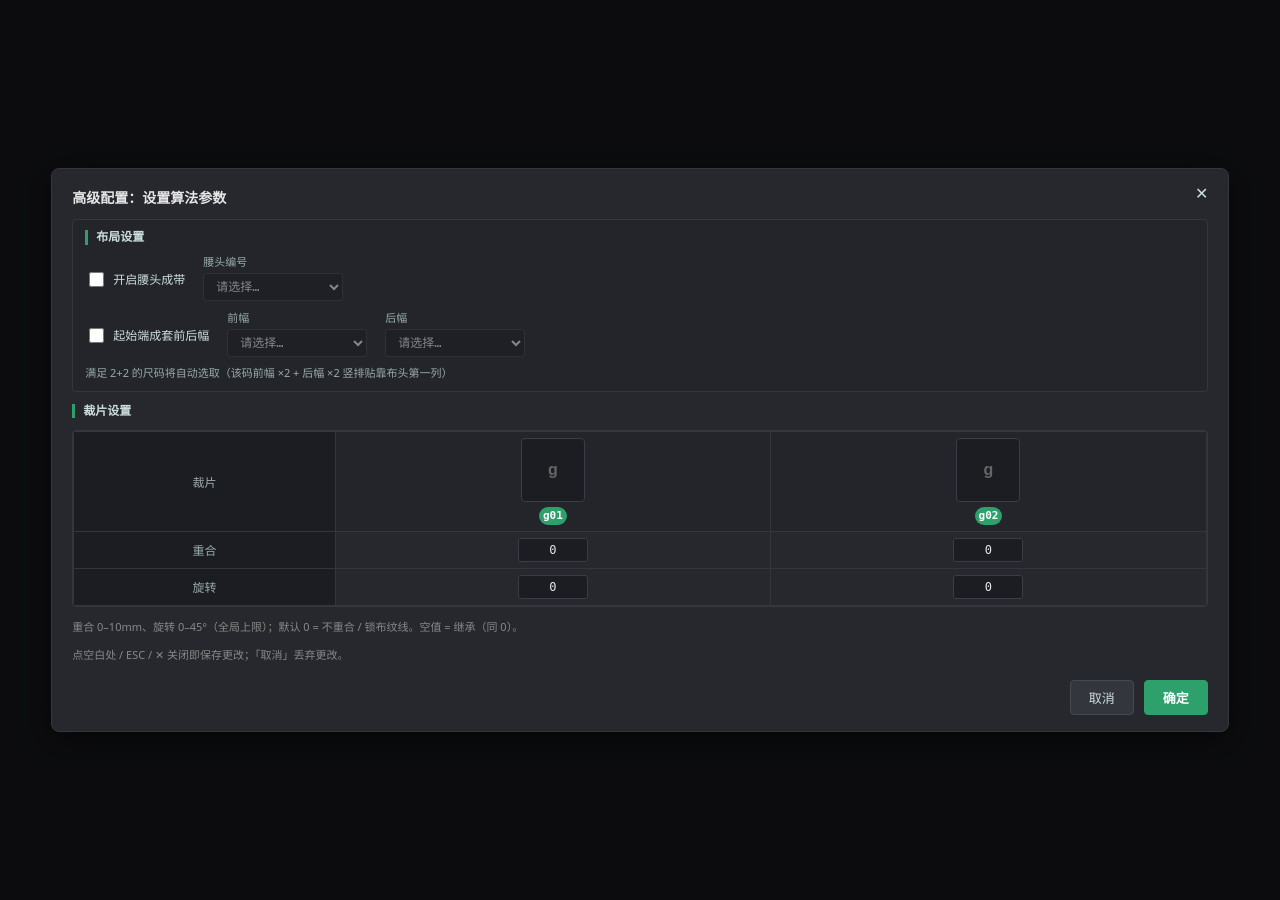
Test: PerTypeOverridesModal 布局设置分区 › 成带预览失败 → 可读错误文案（成带失败前置到选码时刻，无缩略可点）
Click the checkbox with test id "band-enabled": click(97, 279) [89,272,104,286]
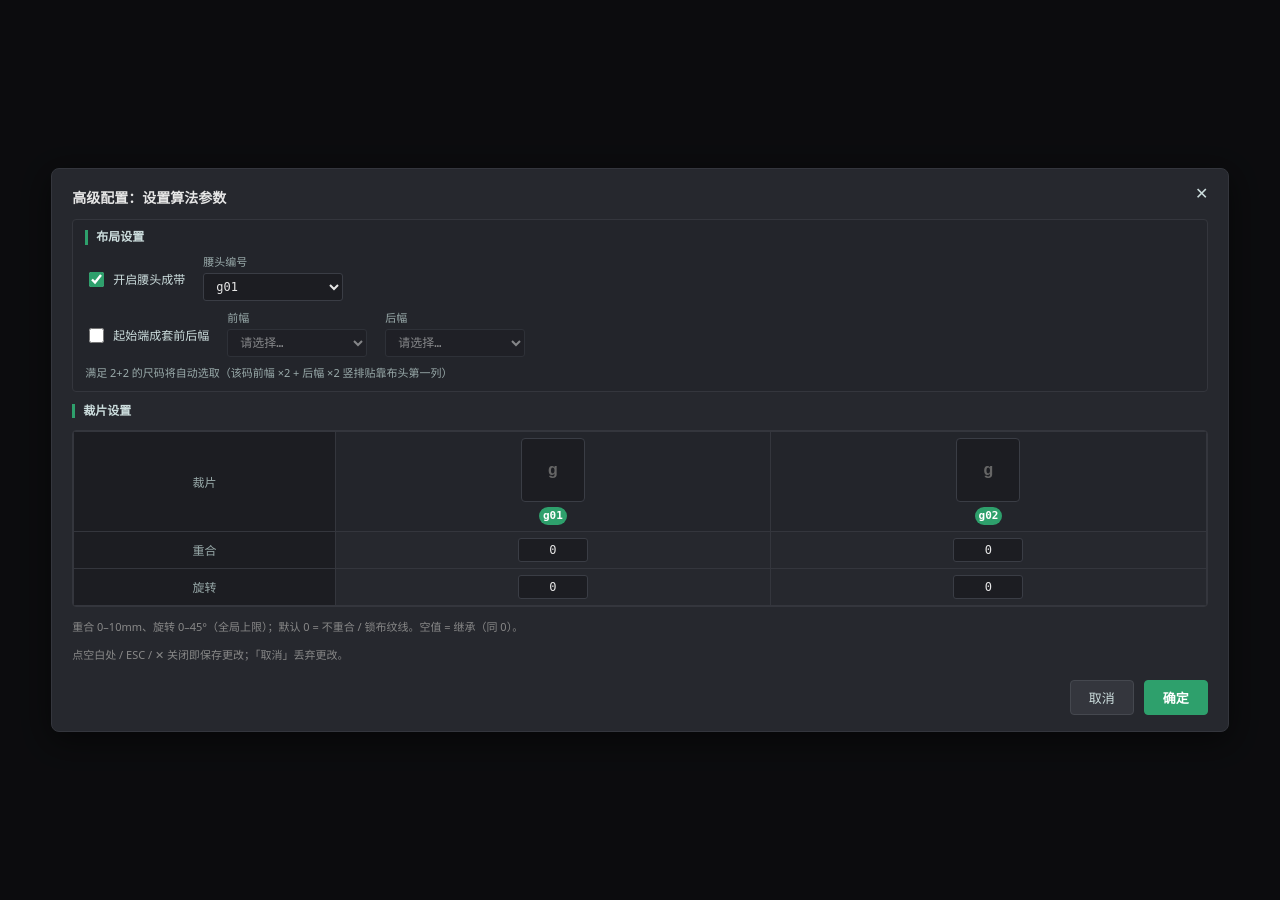
Select "g01" in the dropdown with test id "band-label-select": (273, 286) [203,272,343,300]
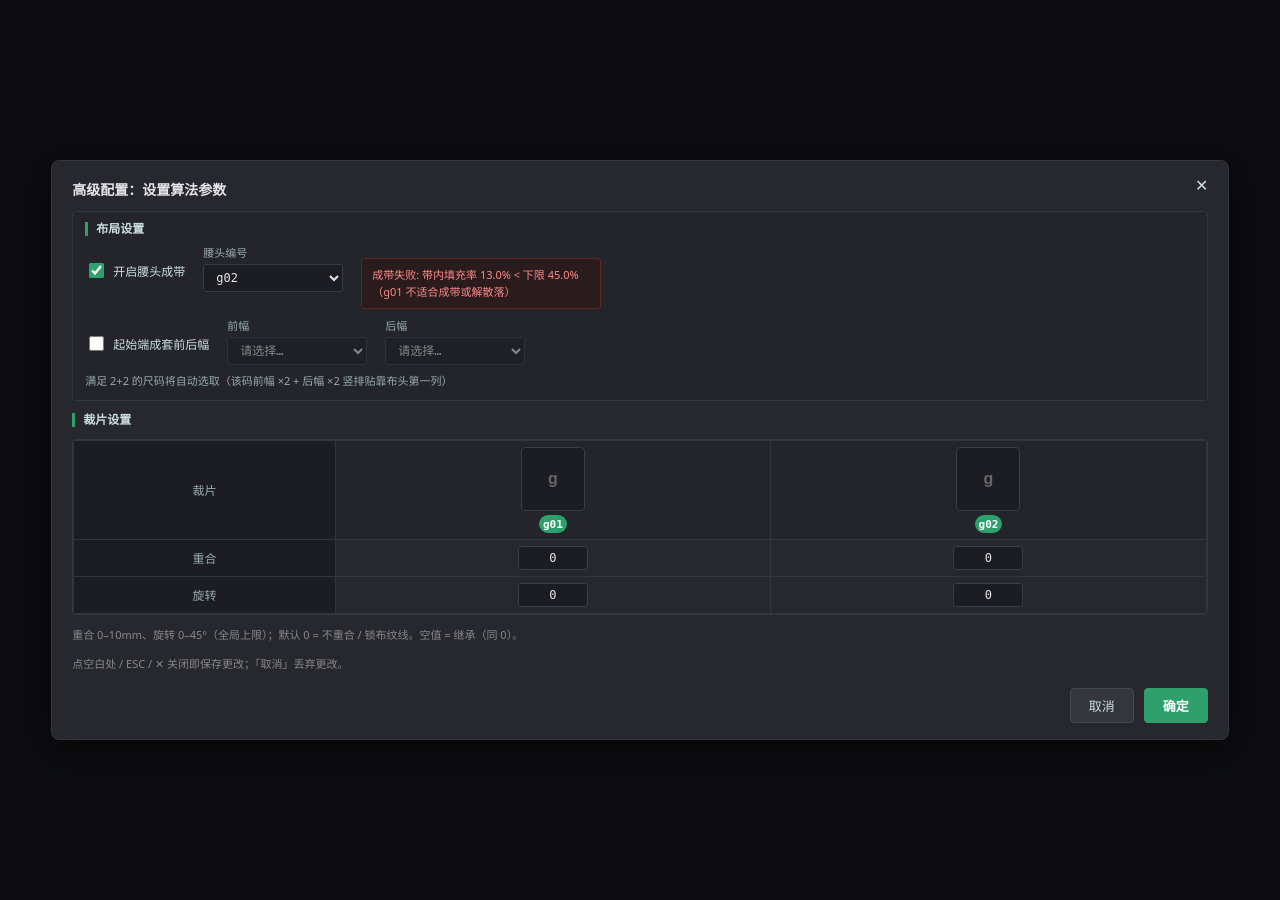
Expected: the text "成带失败: 带内填充率 13.0% < 下限 45.0%（g01 不适合成带或解散落）" is shown, [361,258,601,309]
Expected: the text with test id "band-thumb-error" shows "填充率 13.0%", [372,267,579,298]
Select "g02" in the dropdown with test id "band-label-select": (273, 278) [203,264,343,292]
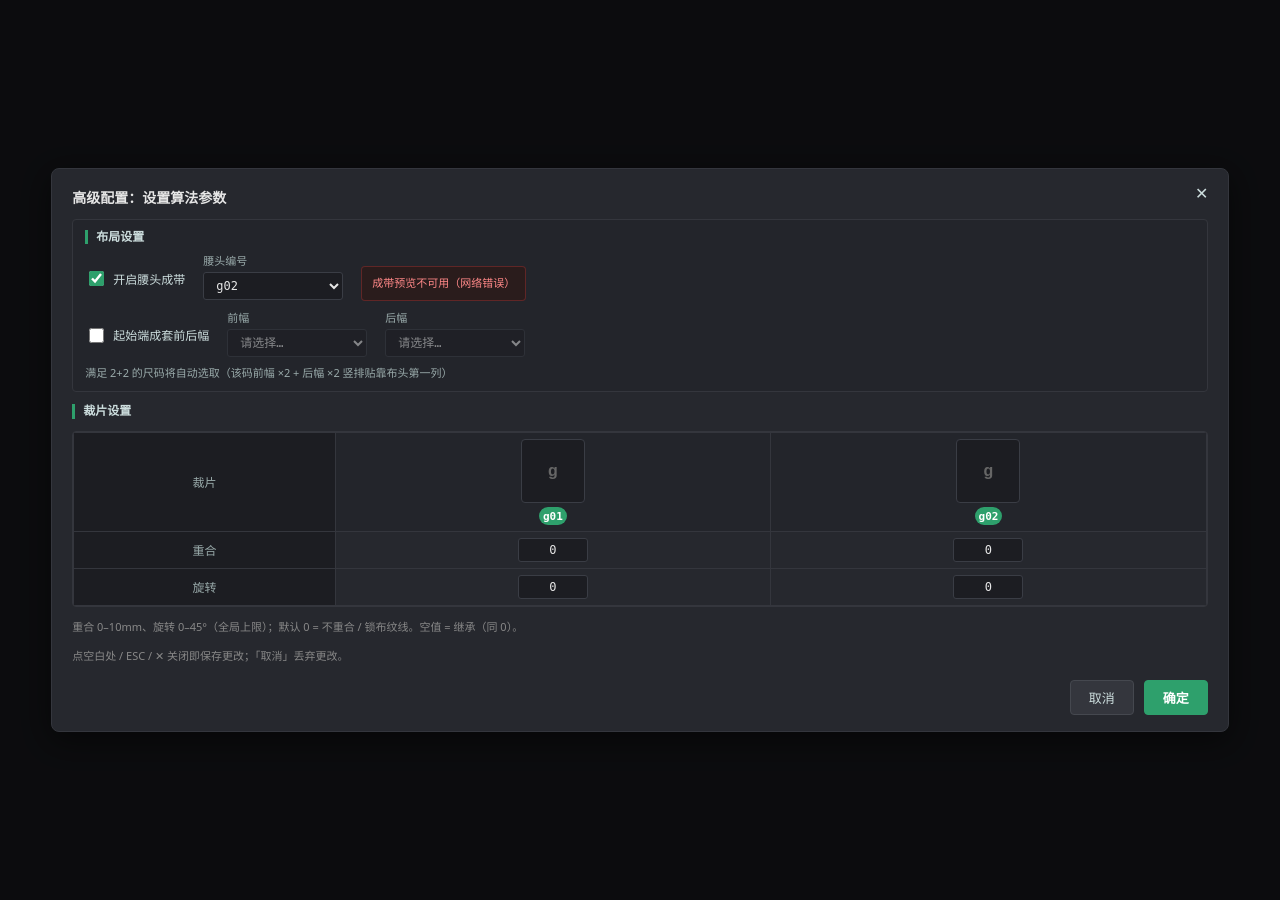
Expected: the text with test id "band-thumb-error" shows "成带预览不可用", [372,275,515,290]
